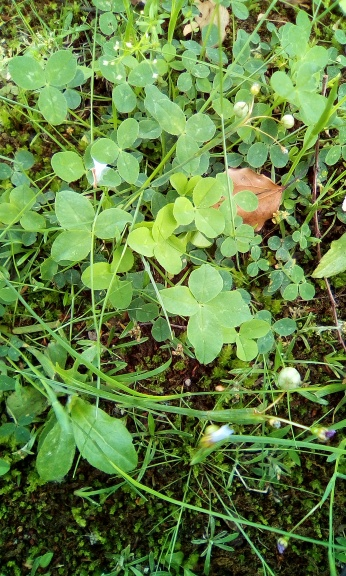4leaf: (155, 262, 253, 367)
